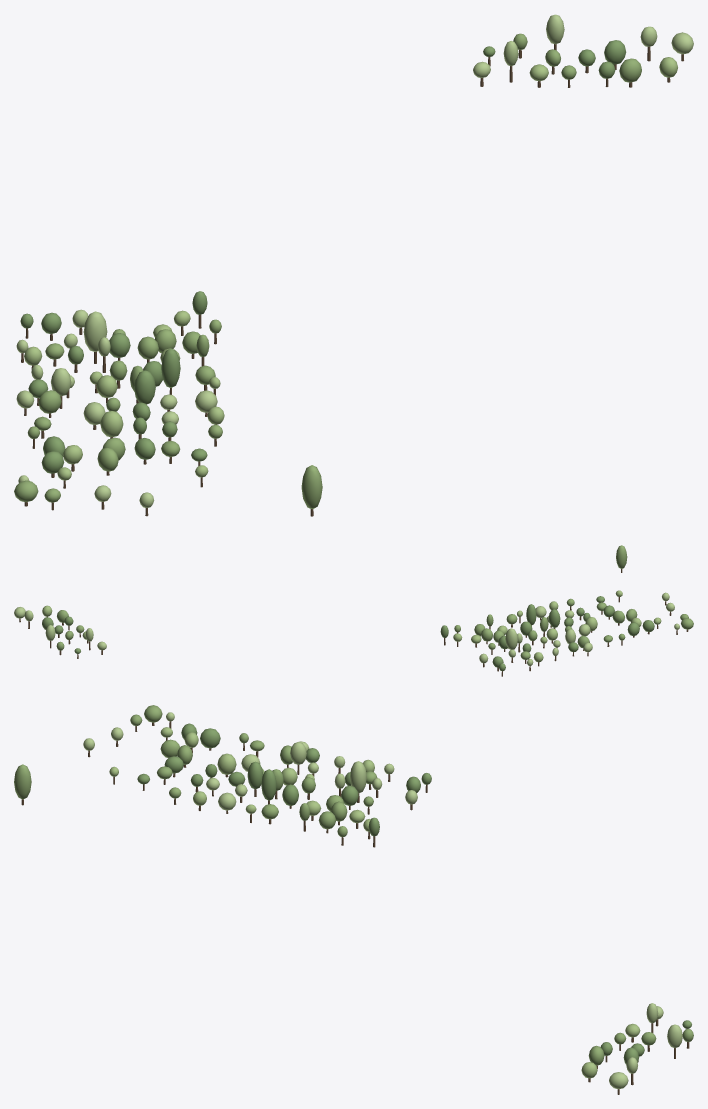
File: union-square-and-gramercy-trees.glb
3 views of the same model, one above another, from view 1: azimuth 30°, elevation 25°; view 2: azimuth 150°, elevation 25°; view 3: azimuth 270°, elevation 25° (orthographic). The views are drawn at different scales.
Size of the model in its own units: 520 by 26.7 by 397.
